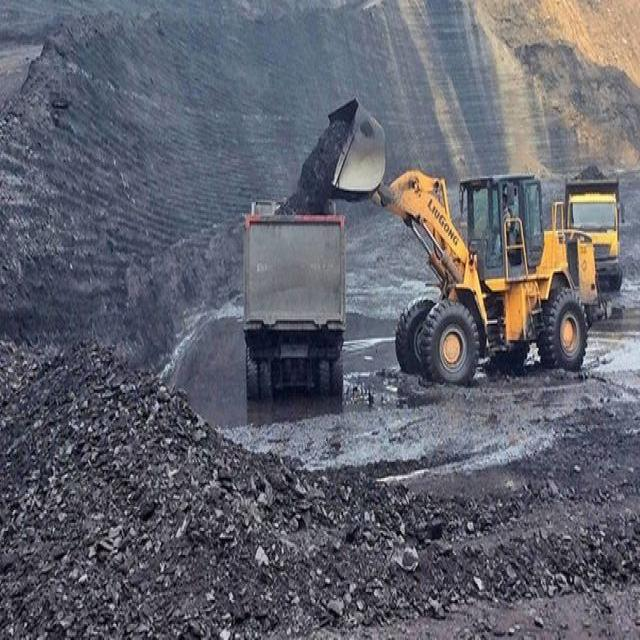buldozerpayloadergrader: (320, 87, 588, 395)
dump_truck: (240, 197, 352, 414), (562, 173, 628, 289)
